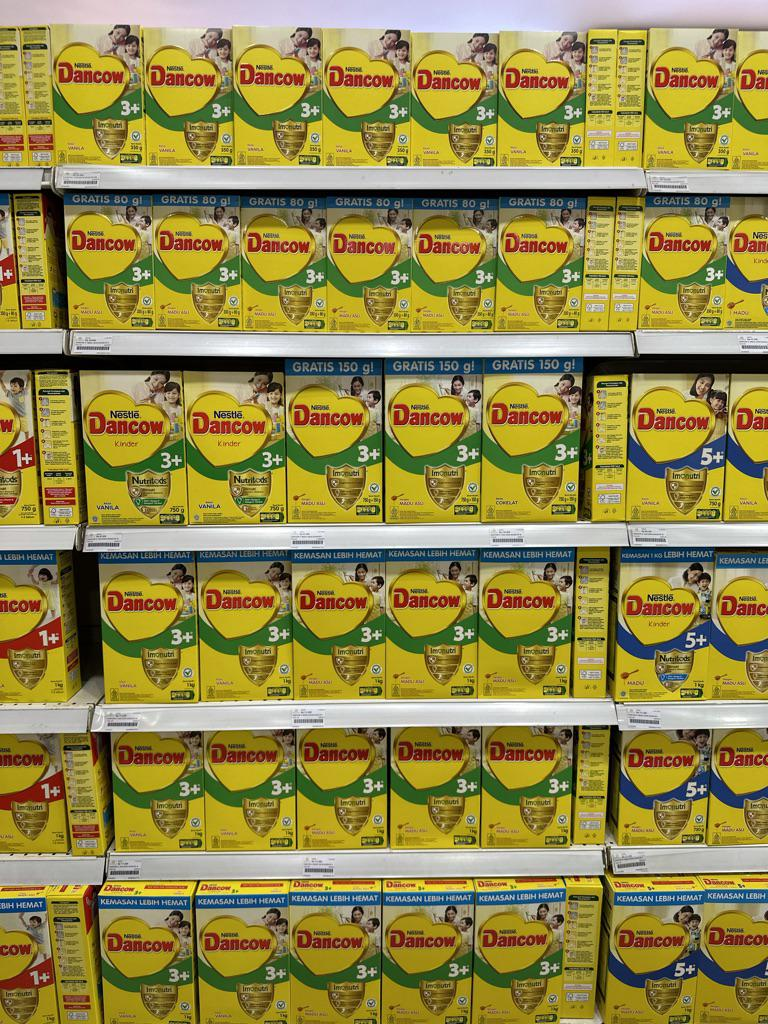DANCOW 3+ Madu Advn ExcNutr 12x1000g ID_REDESIGN3: (293, 564, 386, 699), (480, 563, 571, 698), (387, 564, 477, 699), (483, 724, 573, 847), (297, 726, 388, 847), (197, 907, 290, 1024), (290, 905, 381, 1023), (390, 726, 480, 843), (473, 904, 561, 1023), (383, 906, 471, 1024)
DANCOW 3+ Van Advn ExcNutr 12x1000g ID_REDESIGN3: (205, 727, 296, 849), (198, 906, 291, 1024), (103, 908, 197, 1024), (114, 730, 203, 851)
